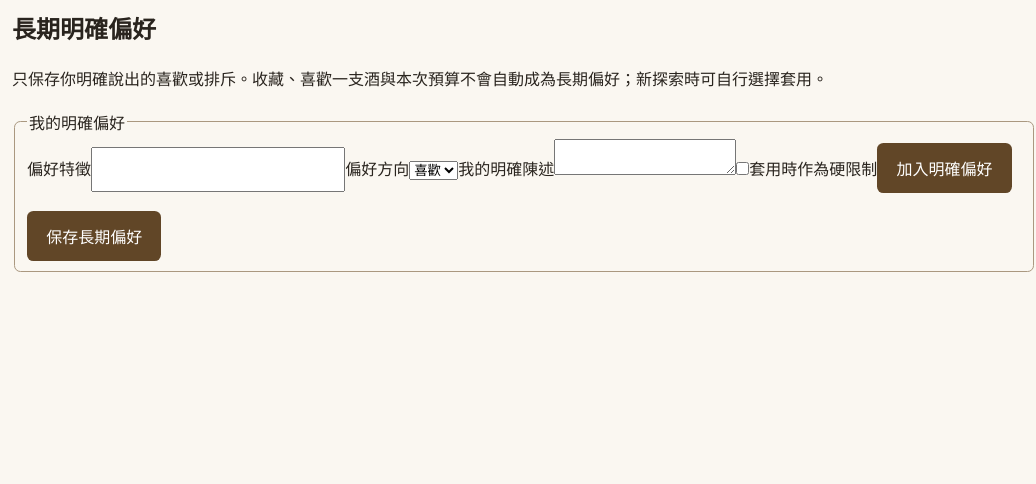
an explicit preference saves separately without a budget or inferred tags
Type "果香" into the field labelled "偏好特徵" at (218, 169), box top-left (91, 147), bottom-right (345, 192)
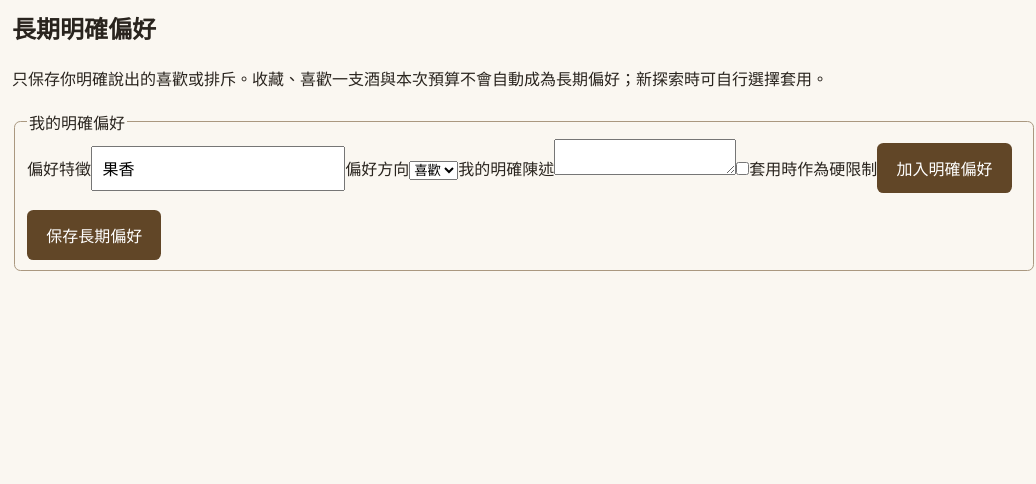
Type "我明確表示喜歡果香" into the text box labelled "我的明確陳述" at (645, 157), box top-left (554, 139), bottom-right (736, 175)
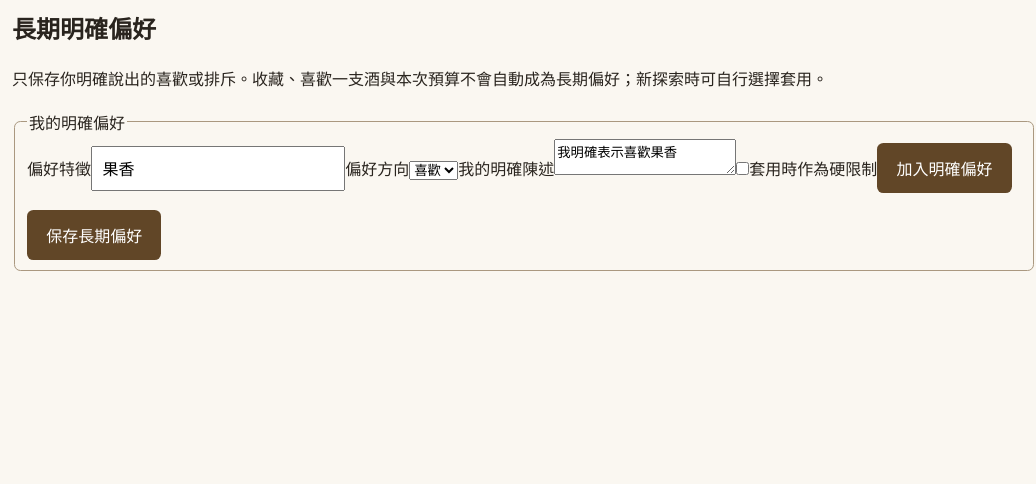
Click the button "加入明確偏好" at (944, 168), box top-left (877, 143), bottom-right (1012, 193)
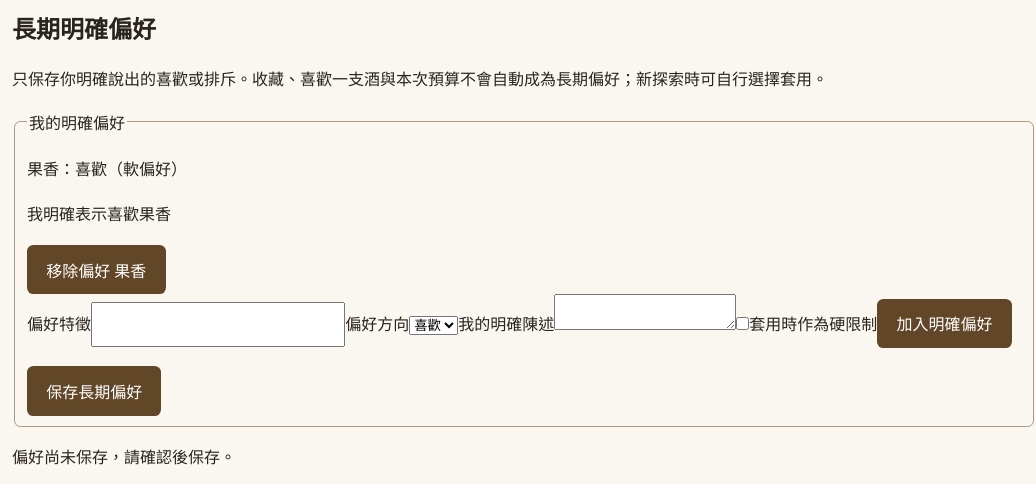
Click the button "保存長期偏好" at (94, 391), box top-left (27, 366), bottom-right (161, 416)
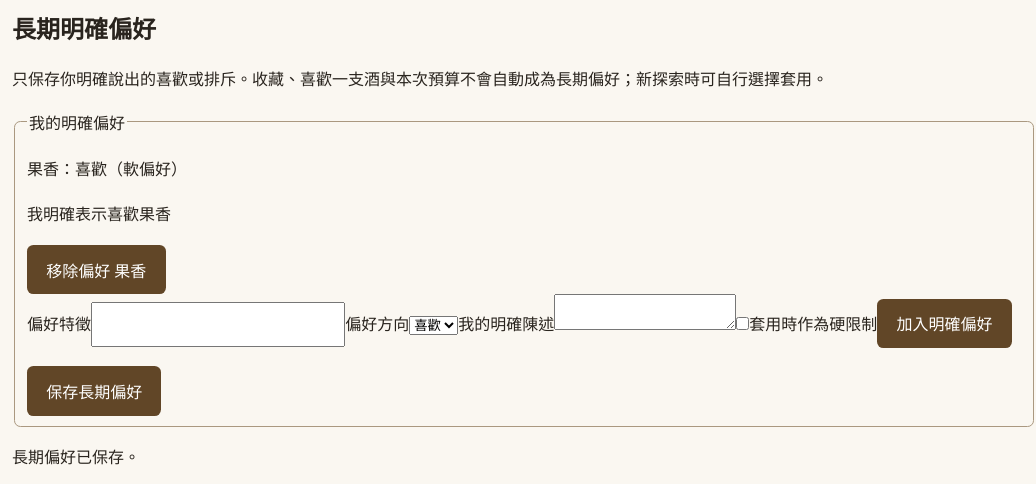
Check: the text "長期偏好已保存。" is shown, box top-left (12, 446), bottom-right (140, 468)
